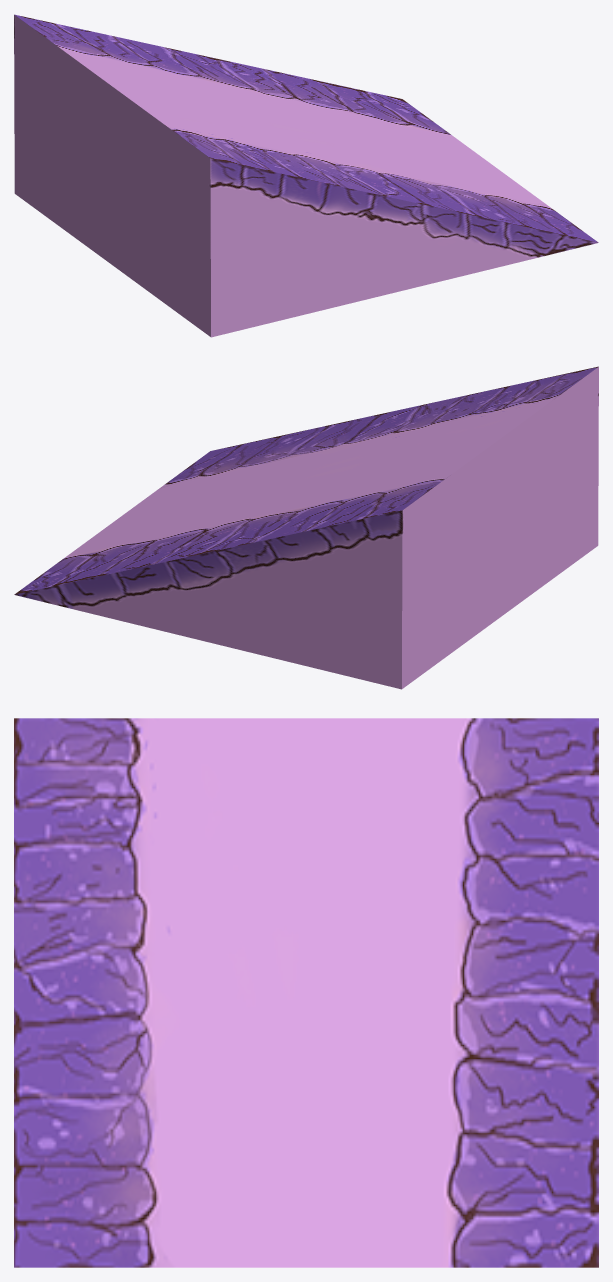
Rendered from Building_Vapor_Ramp_01_Art.fbx.
3 renders of one model, top to bottom at view 1: azimuth 30°, elevation 25°; view 2: azimuth 150°, elevation 25°; view 3: azimuth 270°, elevation 25°, orthographic. The views are drawn at different scales.
Parts seen in each view (by area): view 1: Building_Vapor_Ramp_01; view 2: Building_Vapor_Ramp_01; view 3: Building_Vapor_Ramp_01.
Part boxes in pixels (x1=…): Building_Vapor_Ramp_01: x1=14, y1=14, x2=598, y2=337; Building_Vapor_Ramp_01: x1=14, y1=366, x2=598, y2=689; Building_Vapor_Ramp_01: x1=14, y1=718, x2=598, y2=1267.
Size of the model in its own units: 5.49 by 2.42 by 4.8.
